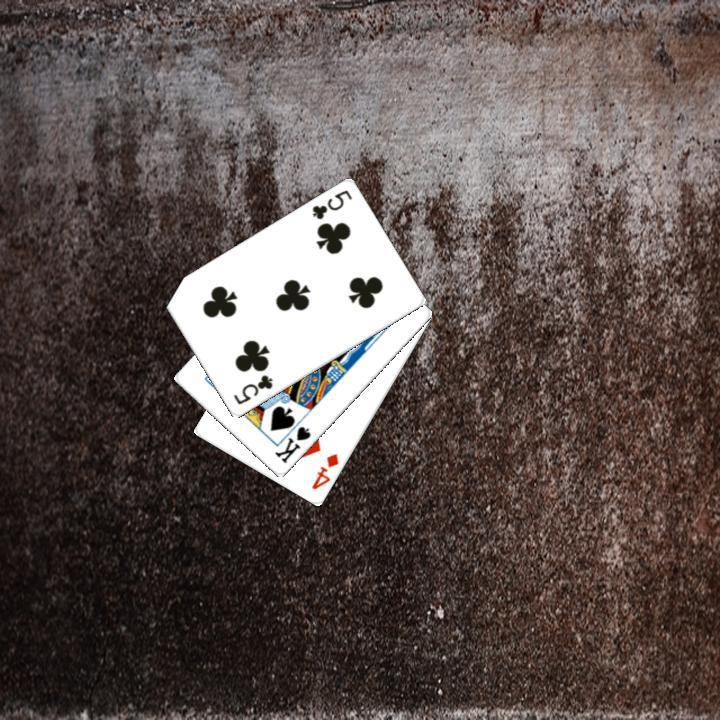4: (307, 449, 341, 492)
5: (307, 186, 354, 222), (229, 371, 275, 407)
K: (270, 422, 313, 466)
